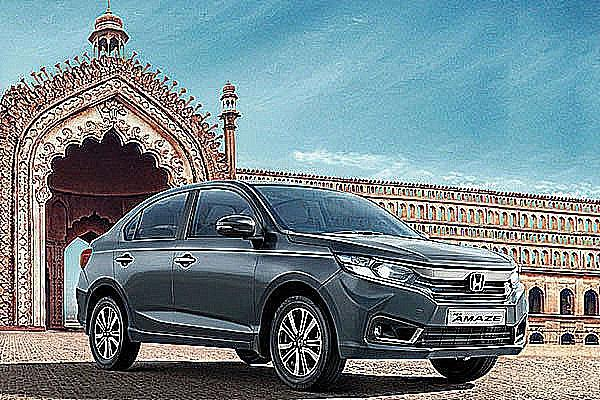Car hood: (283, 226, 517, 271)
Driver-s door - -F-R-: (170, 172, 269, 352)
Fender - -F-R-: (250, 233, 343, 344)
Fender - -R-R-: (80, 208, 133, 304)
Front bumper: (319, 266, 530, 363)
Headlight - -R-: (331, 250, 420, 289)
Passenger-s door - -R-R-: (108, 178, 197, 354)
Rear bumper: (71, 288, 94, 334)
Rear light - -R-: (78, 248, 93, 273)
Side bumper - -R-: (121, 313, 264, 360)
Side mirror - -R-: (215, 213, 269, 250)
